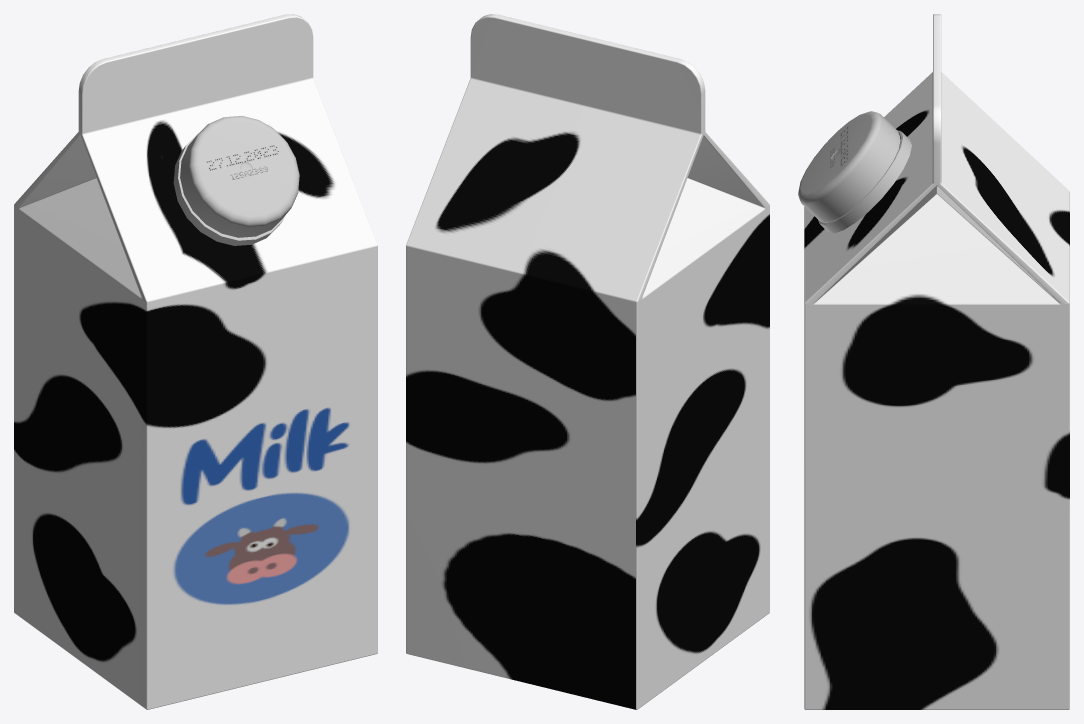
The model's file is Milk Carton.fbx.
The picture shows the model from 3 angles, left to right: view 1: azimuth 30°, elevation 25°; view 2: azimuth 150°, elevation 25°; view 3: azimuth 270°, elevation 25°; orthographic projection.
Visible parts, largest first — view 1: pCylinder3; view 2: pCylinder3; view 3: pCylinder3.
Part boxes in pixels (<box>): pCylinder3: <box>14,14,377,709</box>; pCylinder3: <box>406,14,769,709</box>; pCylinder3: <box>798,14,1069,709</box>.
Size of the model in its own units: 0.9354 by 2.3 by 0.9545.
1 material, 1 textured.
